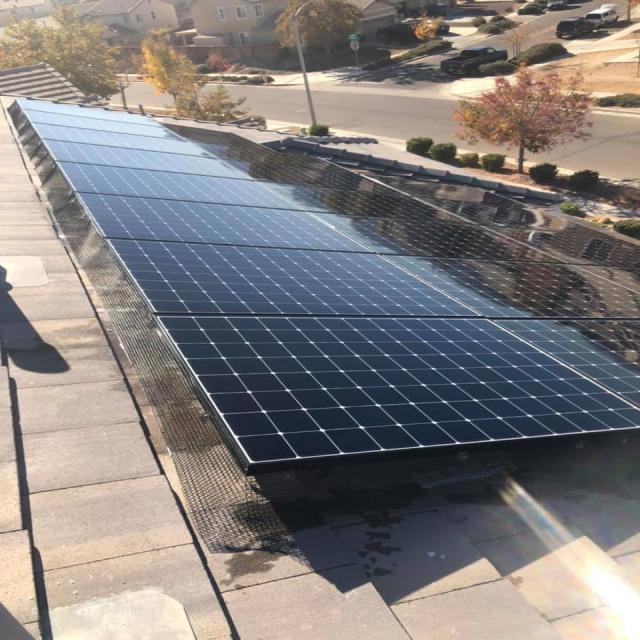clean-solar-panel: (160, 316, 638, 464)
